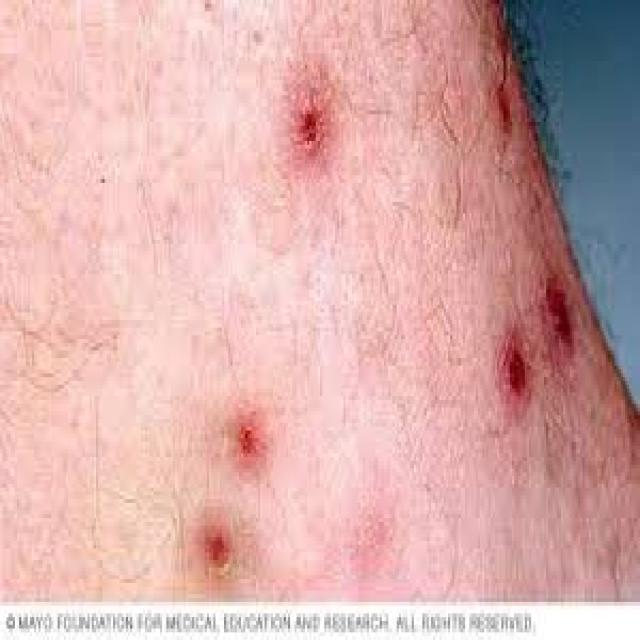kan emici bocekler: (278, 78, 360, 213), (174, 519, 276, 602), (542, 262, 591, 365), (229, 385, 283, 478), (490, 330, 548, 397)
